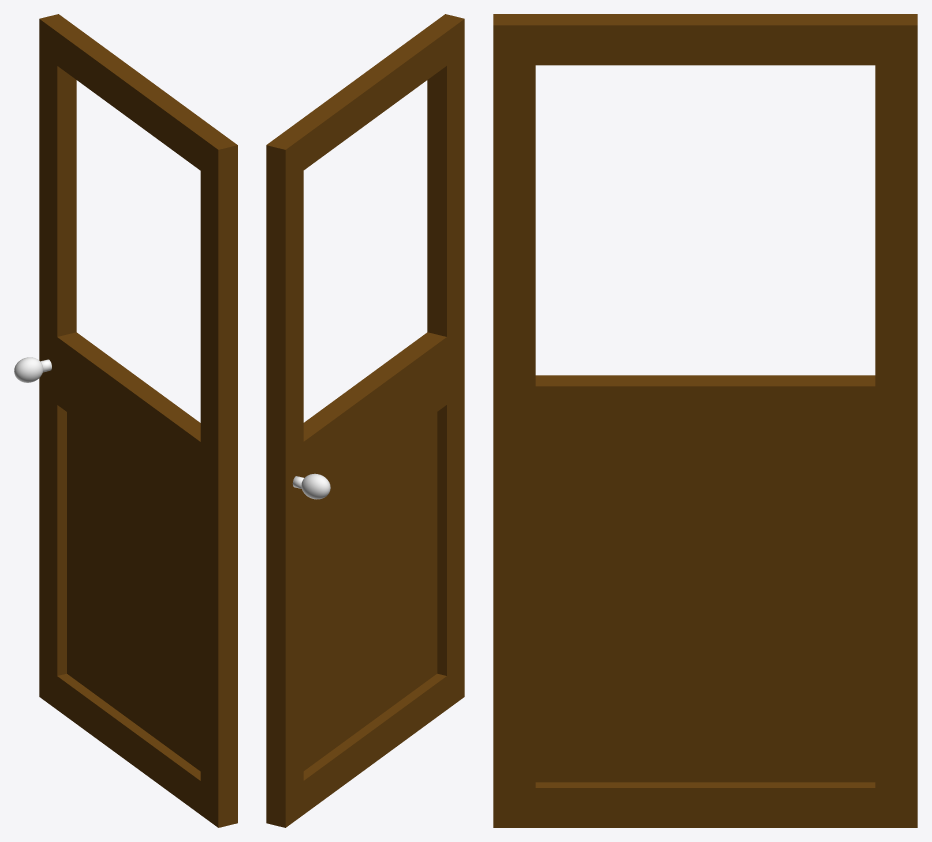
The model's file is Door1HoleU.fbx.
3 renders of one model, left to right at view 1: azimuth 30°, elevation 25°; view 2: azimuth 150°, elevation 25°; view 3: azimuth 270°, elevation 25°, orthographic. The views are drawn at different scales.
Visible parts, largest first — view 1: Door, DoorHandle; view 2: Door, DoorHandle; view 3: Door.
Boxes of the visible parts, x1,y1,x2,y2 form: Door: (39,14,237,827); DoorHandle: (14,357,43,382); Door: (266,14,464,827); DoorHandle: (301,473,330,499); Door: (493,14,917,827).
Size of the model in its own units: 219 by 2669 by 1278.
